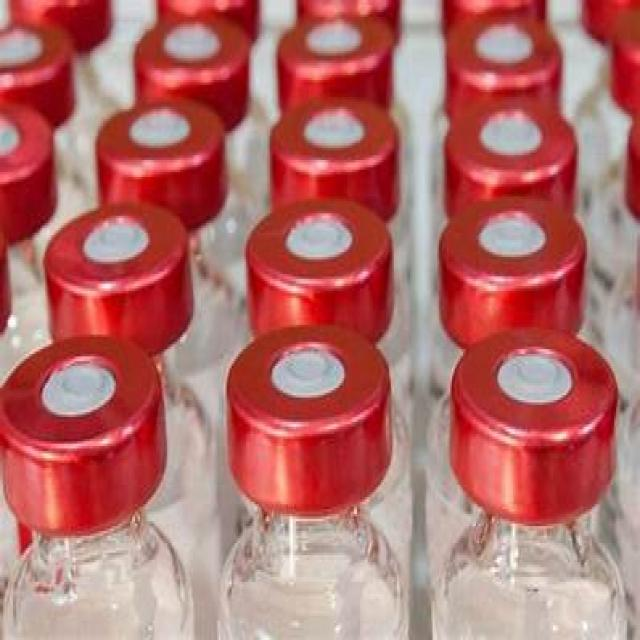vial: (458, 336, 611, 457), (228, 338, 392, 440), (6, 353, 163, 452), (36, 210, 190, 303), (445, 210, 596, 300), (253, 210, 388, 302), (443, 106, 570, 190), (272, 106, 404, 180), (96, 106, 220, 182), (446, 31, 568, 94), (282, 28, 384, 92), (132, 33, 249, 81), (2, 31, 70, 99), (0, 106, 46, 206), (613, 116, 640, 213), (610, 31, 640, 97), (153, 0, 247, 17), (0, 4, 106, 18), (295, 0, 399, 14), (446, 0, 543, 12), (581, 0, 640, 19), (0, 224, 9, 302)
